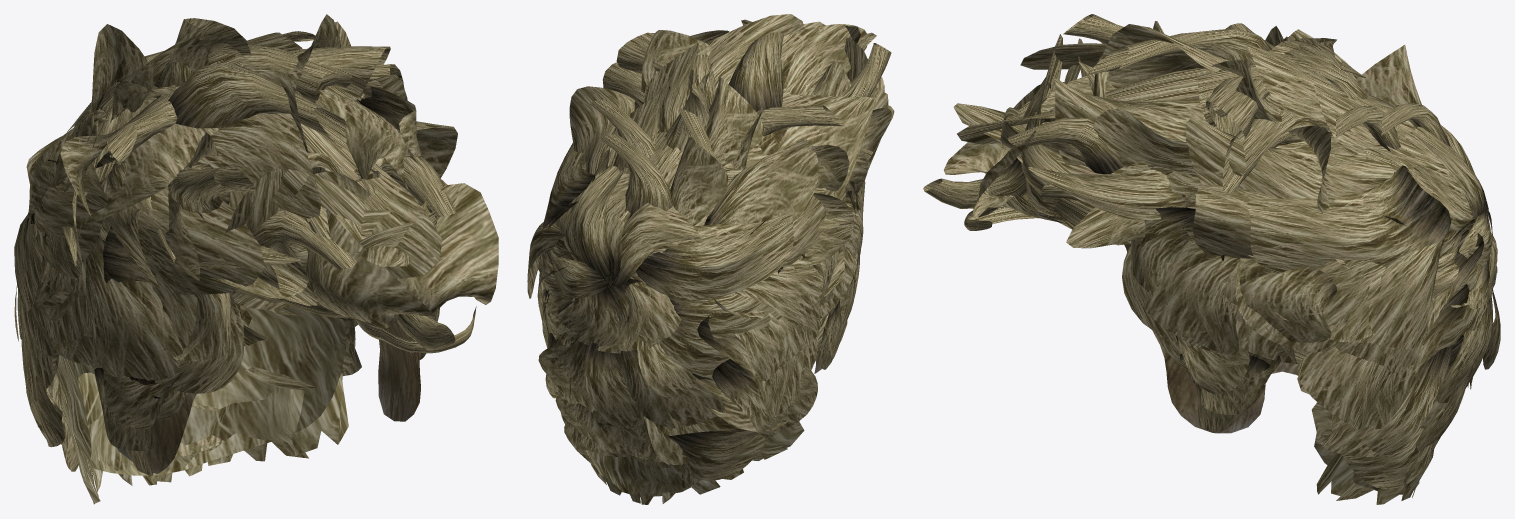
The model's file is Hair2.glb.
3 views of the same model, side by side, from view 1: azimuth 30°, elevation 25°; view 2: azimuth 150°, elevation 25°; view 3: azimuth 270°, elevation 25° (orthographic). The views are drawn at different scales.
Parts seen in each view (by area): view 1: WildMane for Genesis; view 2: WildMane for Genesis; view 3: WildMane for Genesis.
Boxes of the visible parts, bbox=[...] form: WildMane for Genesis: bbox=[14, 14, 498, 504]; WildMane for Genesis: bbox=[527, 14, 894, 504]; WildMane for Genesis: bbox=[923, 14, 1500, 504].
Bounding box in the file's own units: 3.6 × 4.95 × 5.69.
Materials: 6 (6 with a texture image).
